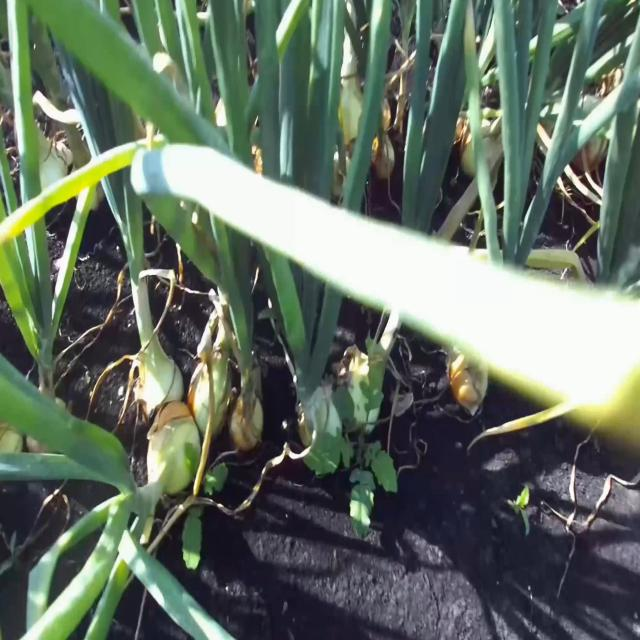onion: (146, 400, 202, 497), (132, 357, 182, 417), (190, 361, 230, 435), (462, 113, 502, 185), (451, 350, 490, 415), (232, 393, 262, 450)
